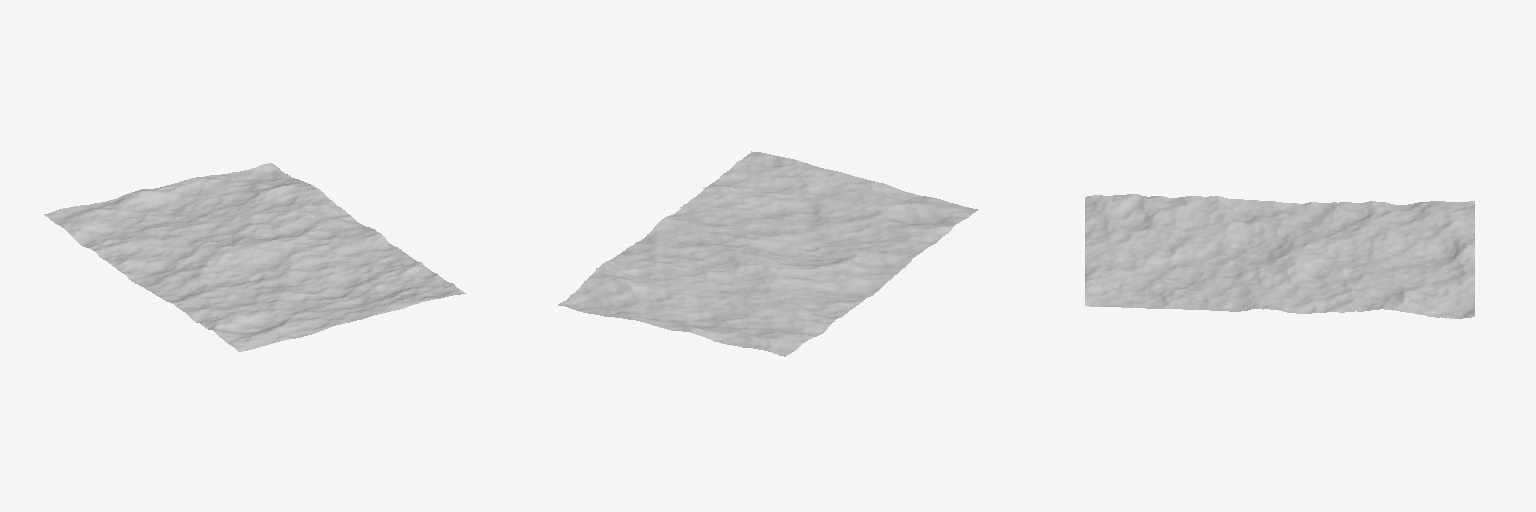
File: pool35k.obj
The picture shows the model from 3 angles: view 1: azimuth 30°, elevation 25°; view 2: azimuth 150°, elevation 25°; view 3: azimuth 270°, elevation 25°; orthographic projection.
Parts seen in each view (by area): view 1: Mesh; view 2: Mesh; view 3: Mesh.
Part boxes in pixels (x1,y1,x2,y2): Mesh: (44, 163, 465, 351); Mesh: (558, 151, 977, 356); Mesh: (1085, 194, 1474, 318).
Bounding box in the file's own units: 8.31 × 0.5851 × 12.17.